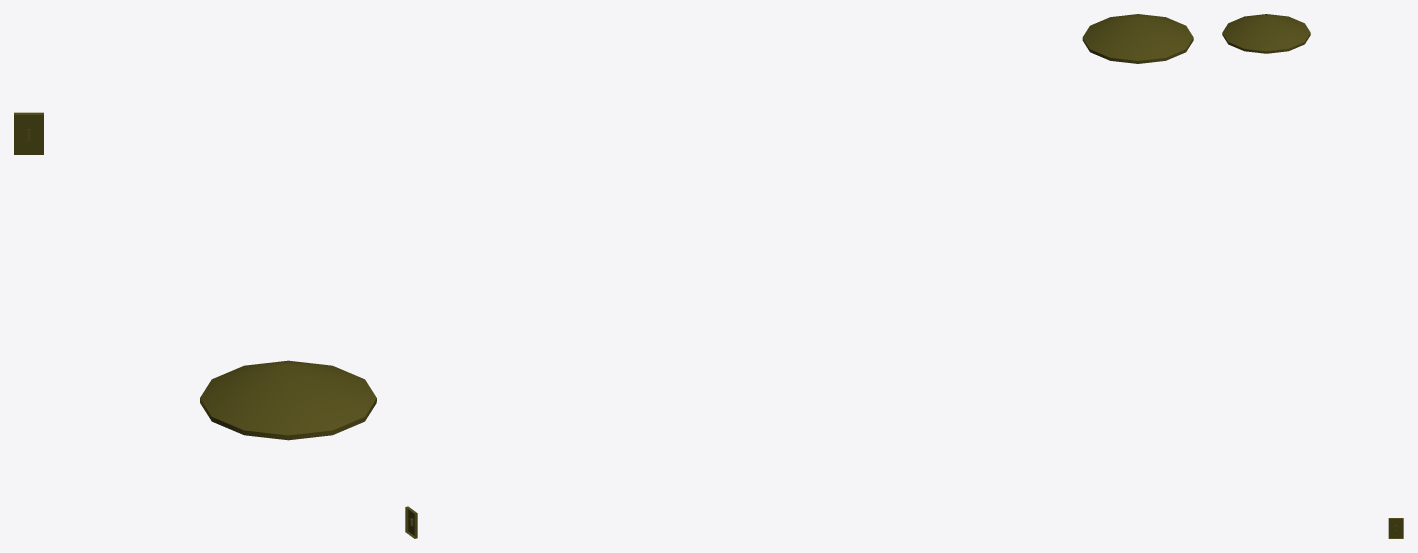
Rendered from Luz.fbx.
The picture shows the model from 3 angles, left to right: view 1: azimuth 90°, elevation 25°; view 2: azimuth 210°, elevation 25°; view 3: azimuth 270°, elevation 25°; orthographic projection. The views are drawn at different scales.
Visible parts, largest first — view 1: Lampara, Plastico; view 2: Lampara; view 3: Lampara, Plastico.
Boxes of the visible parts, x1,y1,x2,y2 form: Lampara: (200,360,376,440); Plastico: (14,112,43,154); Lampara: (1082,14,1193,63); Lampara: (1222,14,1310,53); Plastico: (1388,518,1403,538).
Size of the model in its own units: 423 by 123 by 97.29.
